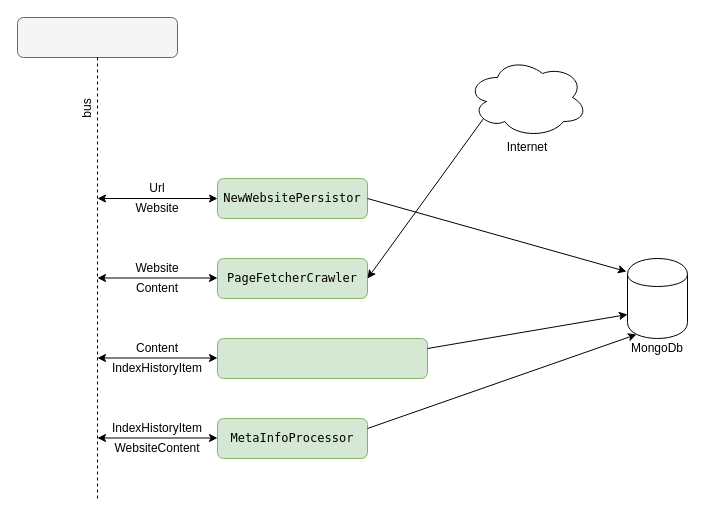
This 705x517 diagram has some shape labels left out. The shapes that lost their labels are listed below. From the top down, each one's centre as x and y in pixels, then its label:
the point at 97,37: AddWebsite
the point at 322,358: WebsiteIndexHistoryPersistor
